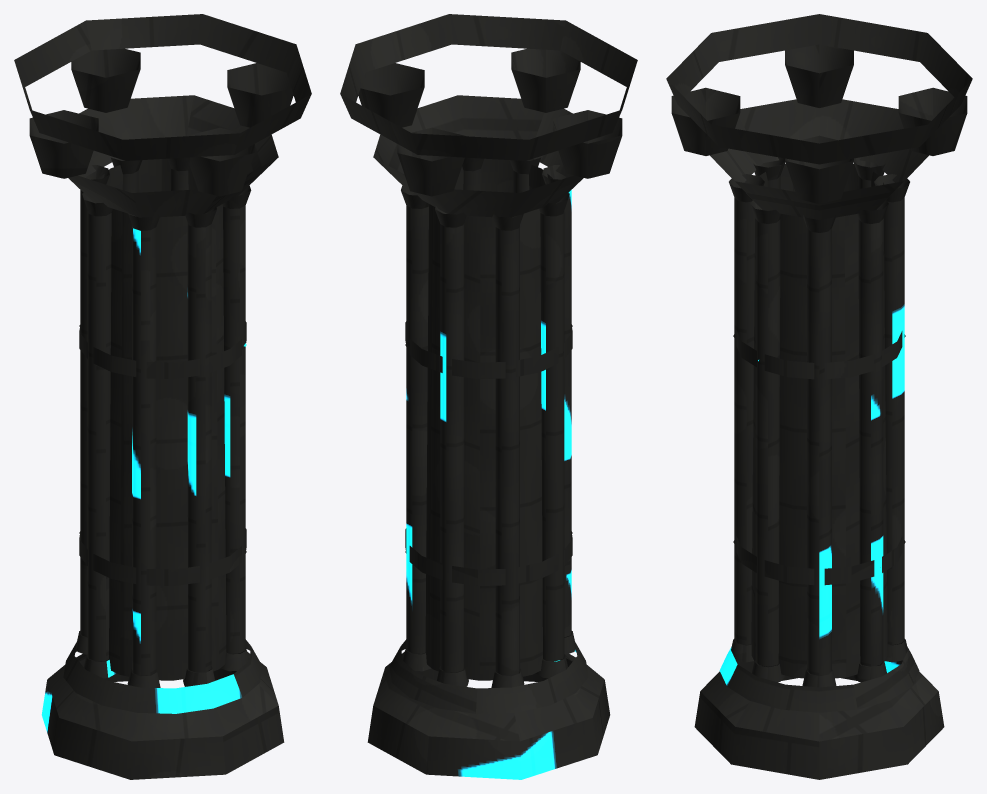
File: aion2_gothic_dungeon_pillar_LOD0.glb
The picture shows the model from 3 angles, left to right: view 1: azimuth 30°, elevation 25°; view 2: azimuth 150°, elevation 25°; view 3: azimuth 270°, elevation 25°; orthographic projection.
Parts seen in each view (by area): view 1: aion2_gothic_dungeon_pillar_LOD0; view 2: aion2_gothic_dungeon_pillar_LOD0; view 3: aion2_gothic_dungeon_pillar_LOD0.
Boxes of the visible parts, x1,y1,x2,y2 form: aion2_gothic_dungeon_pillar_LOD0: (14, 14, 311, 779); aion2_gothic_dungeon_pillar_LOD0: (340, 14, 637, 779); aion2_gothic_dungeon_pillar_LOD0: (666, 14, 972, 779).
Bounding box in the file's own units: 2.7 × 6.3 × 2.7.
Materials: 1 (1 with a texture image).
